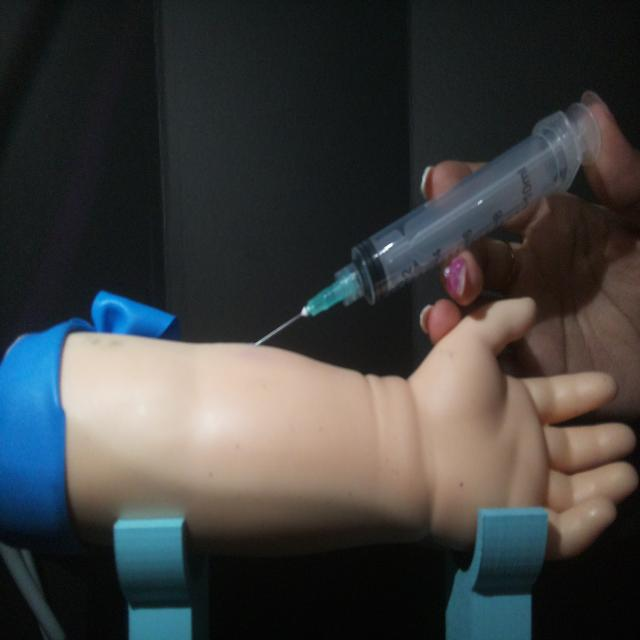29deg: (249, 95, 604, 350)
